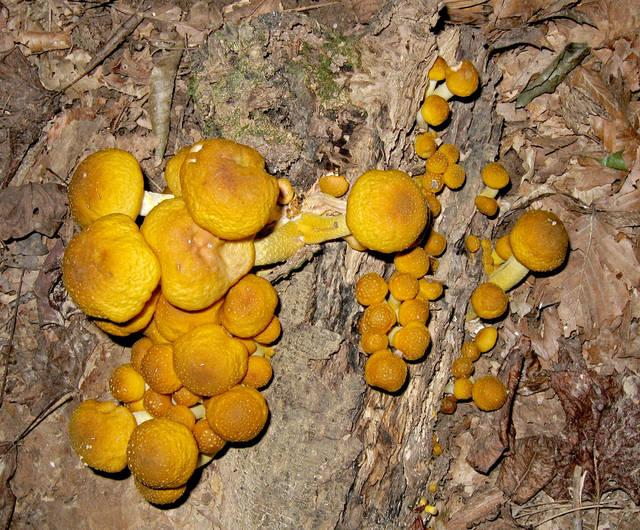Edible Mushroom: (63, 133, 277, 513), (451, 164, 571, 413), (337, 159, 451, 400), (409, 45, 482, 167)
